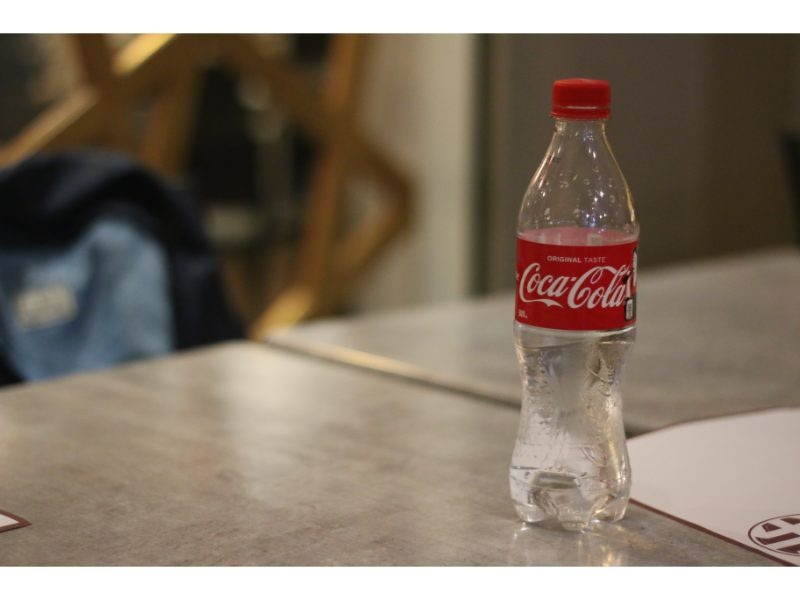PET #1: (508, 71, 636, 537)
